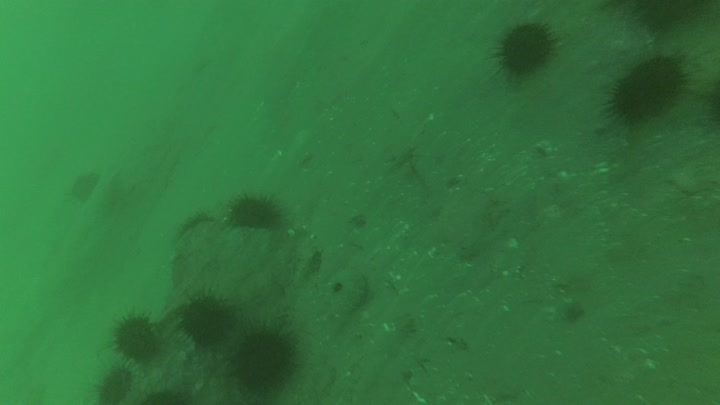echinus: (604, 54, 699, 128), (228, 323, 302, 398), (489, 20, 561, 83), (174, 290, 239, 352), (619, 2, 711, 35), (112, 310, 164, 367), (228, 193, 282, 232), (96, 369, 135, 405), (178, 213, 217, 239), (71, 173, 101, 205), (143, 391, 187, 405)
holothurian: (295, 239, 321, 285), (390, 311, 418, 345)
starfish: (447, 327, 478, 352), (561, 299, 588, 325)
